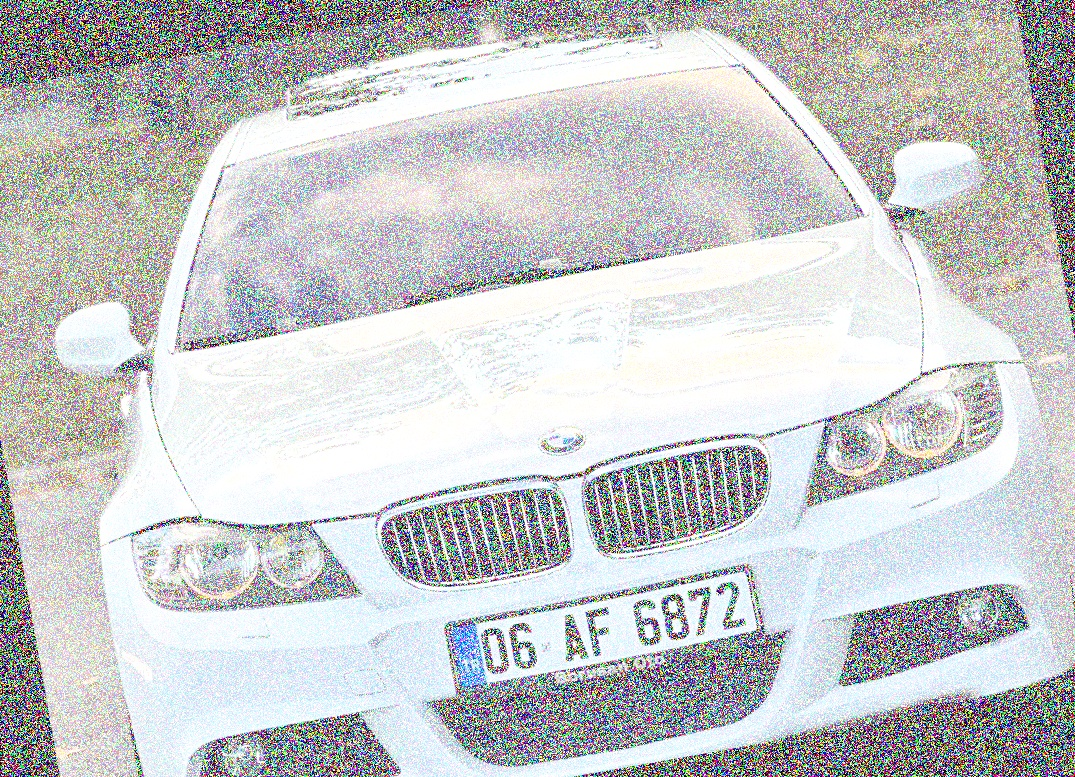plaka: (472, 580, 758, 680)
